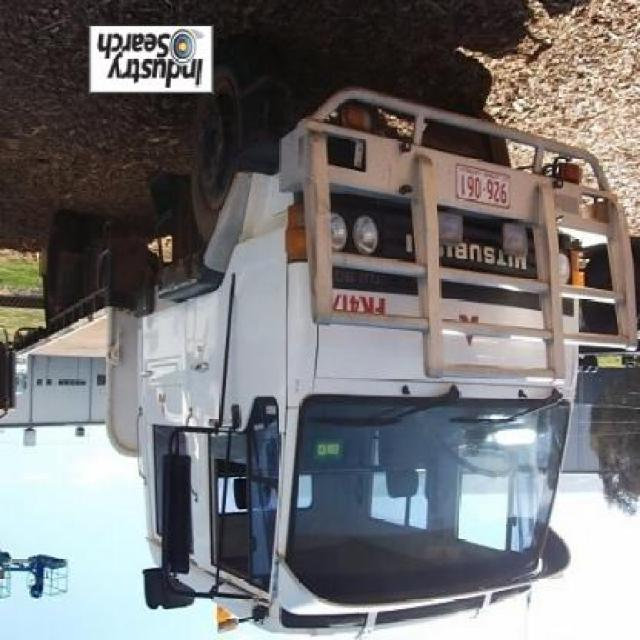truck: (26, 83, 640, 640)
